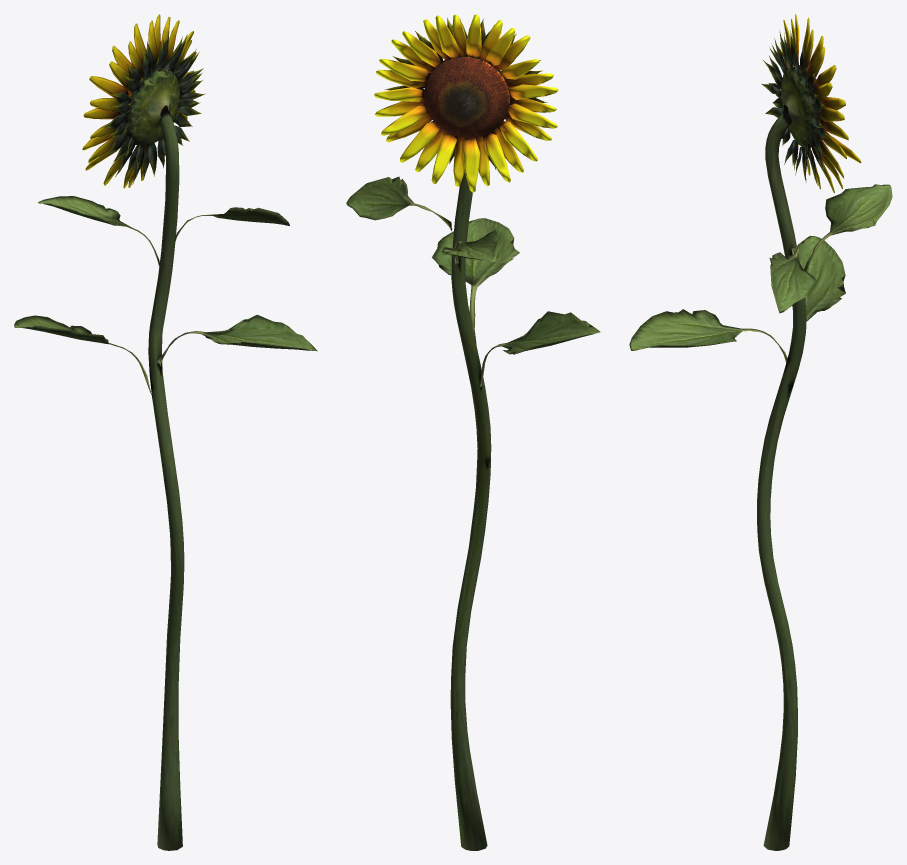
Rendered from Girasole03.fbx.
The picture shows the model from 3 angles, left to right: view 1: azimuth 30°, elevation 25°; view 2: azimuth 150°, elevation 25°; view 3: azimuth 270°, elevation 25°; orthographic projection. The views are drawn at different scales.
Parts seen in each view (by area): view 1: Girasole03; view 2: Girasole03; view 3: Girasole03.
Part boxes in pixels (left/top/right/bottom): Girasole03: left=14, top=14, right=317, bottom=850; Girasole03: left=346, top=14, right=600, bottom=850; Girasole03: left=629, top=14, right=892, bottom=850.
Size of the model in its own units: 29.44 by 88.18 by 25.66.
